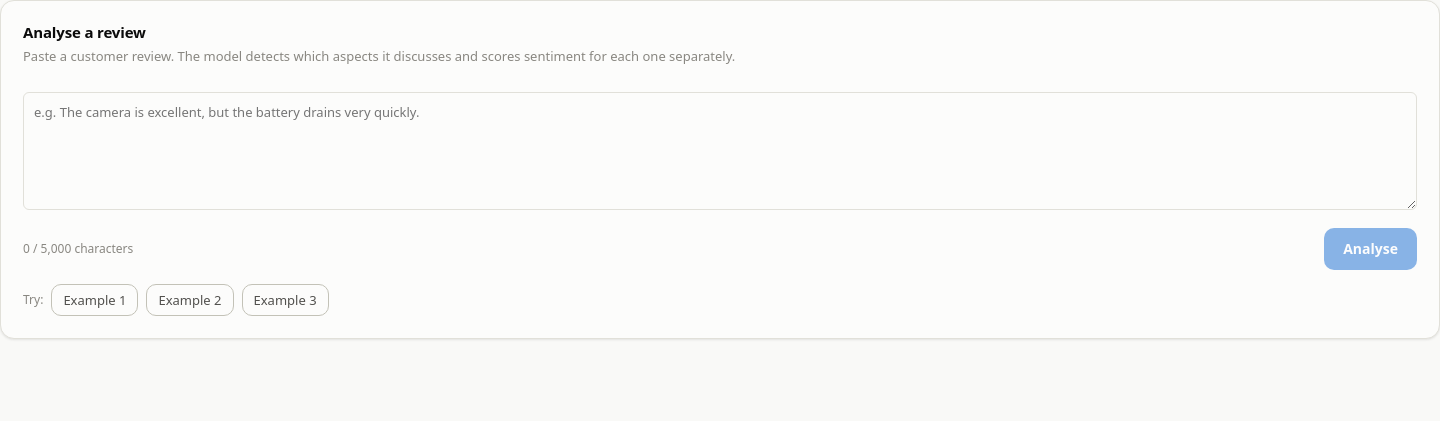
Scenario: error states › shows the API's message rather than a generic one
The width and height of the screenshot is (1440, 421).
Type "!!!" into the text box named "review text" at (720, 151), box x1=23 y1=92 x2=1417 y2=210
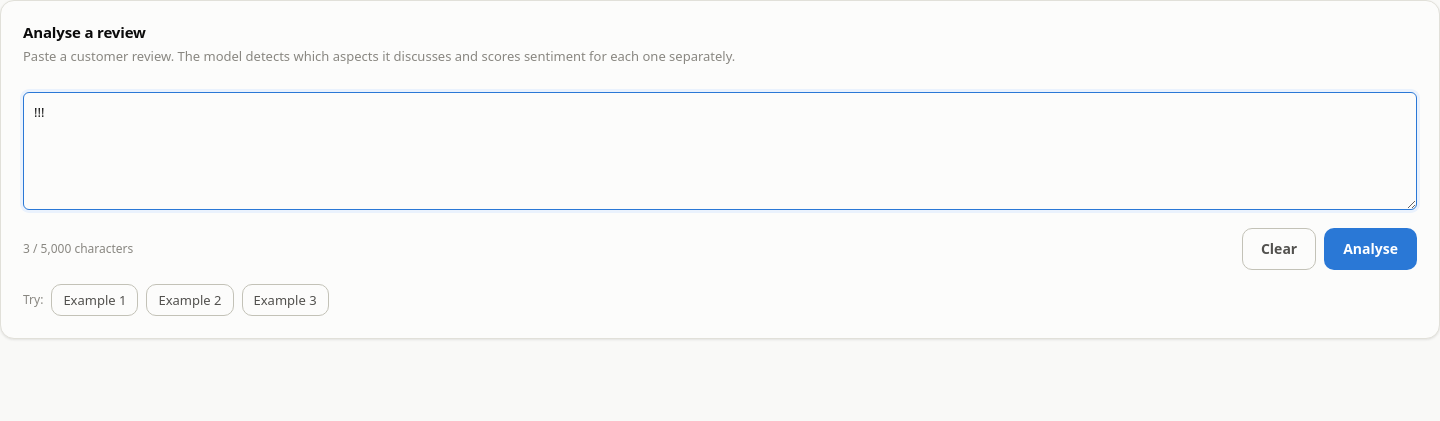
Click the button "Analyse" at (1371, 249), box x1=1324 y1=228 x2=1417 y2=270
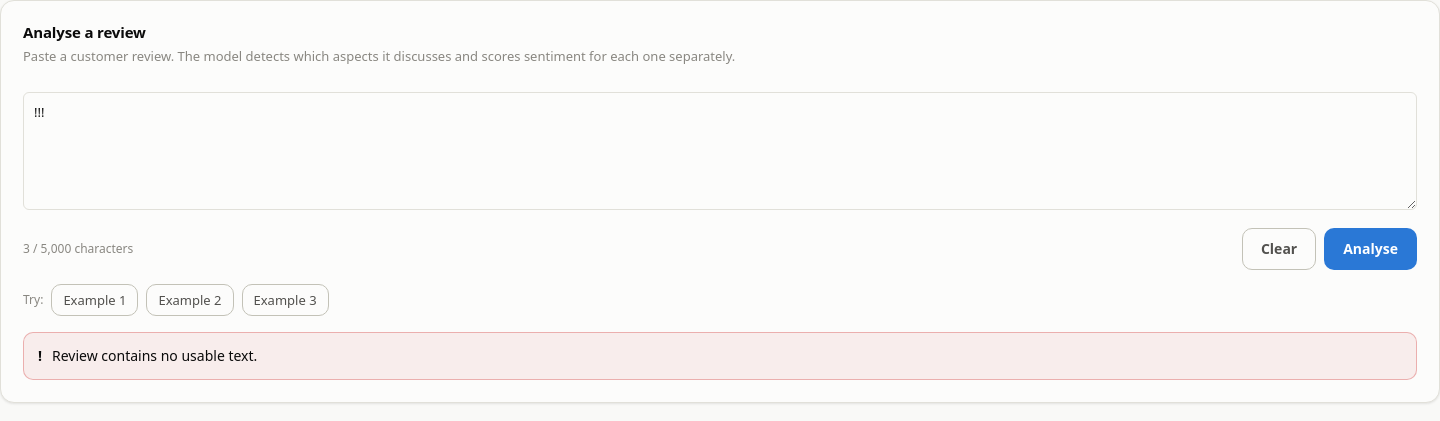
Now the message shows "Review contains no usable text.", box x1=52 y1=346 x2=257 y2=365
